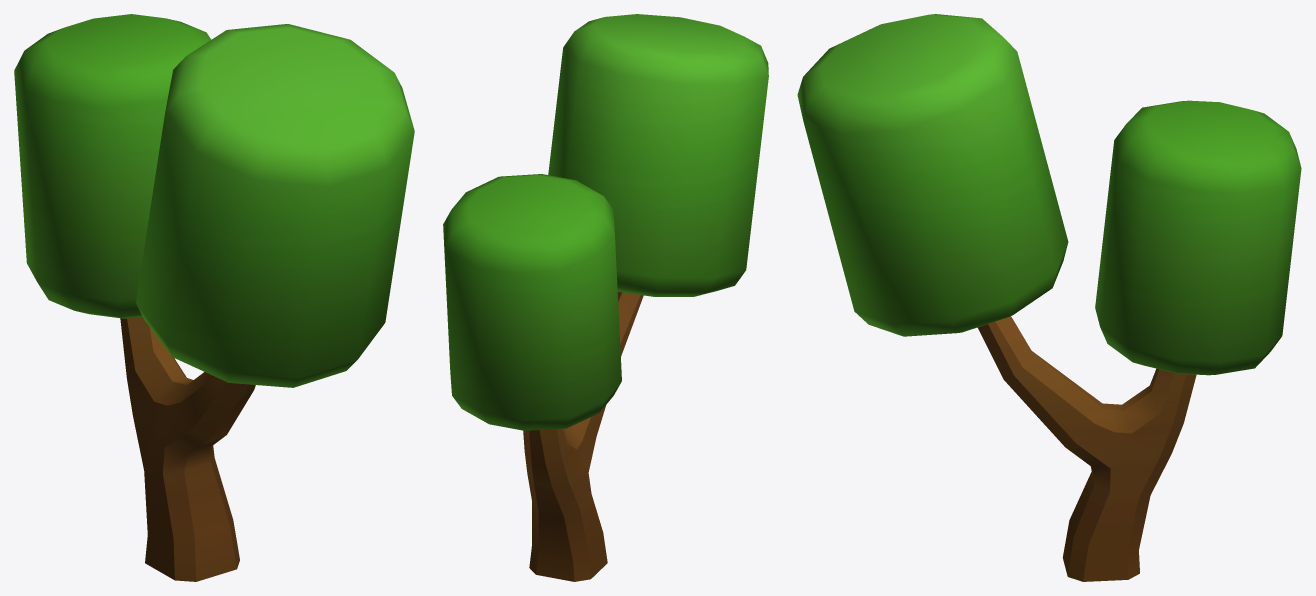
Rendered from Tree_B_2.fbx.
3 views of the same model, side by side, from view 1: azimuth 30°, elevation 25°; view 2: azimuth 150°, elevation 25°; view 3: azimuth 270°, elevation 25° (orthographic). The views are drawn at different scales.
Parts seen in each view (by area): view 1: Tree_B_2; view 2: Tree_B_2; view 3: Tree_B_2.
Boxes of the visible parts, x1,y1,x2,y2 form: Tree_B_2: (14, 14, 414, 581); Tree_B_2: (443, 14, 768, 581); Tree_B_2: (797, 14, 1301, 581).
Bounding box in the file's own units: 169 × 431 × 376.
